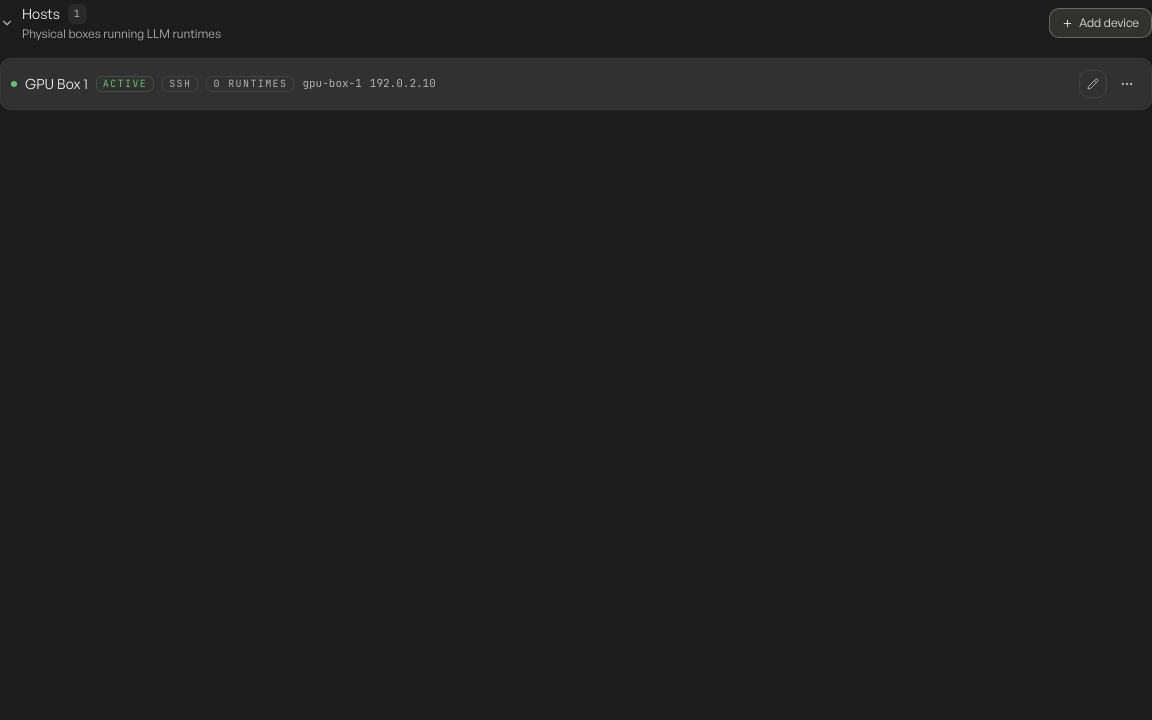
Test case: HostsSection › routes: already reachable → box wizard
Click the button "Add device" at (1100, 23), box [1049,8,1151,38]
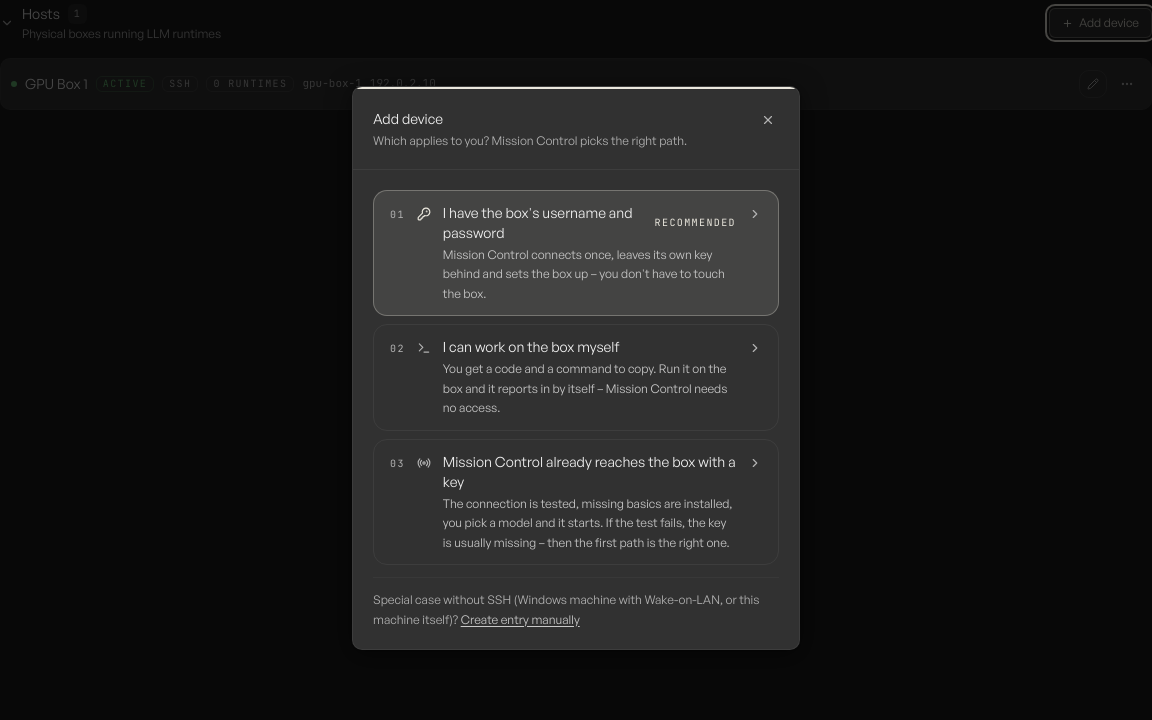
Click the button with test id "add-device-wizard" at (576, 502), box [373,439,779,565]
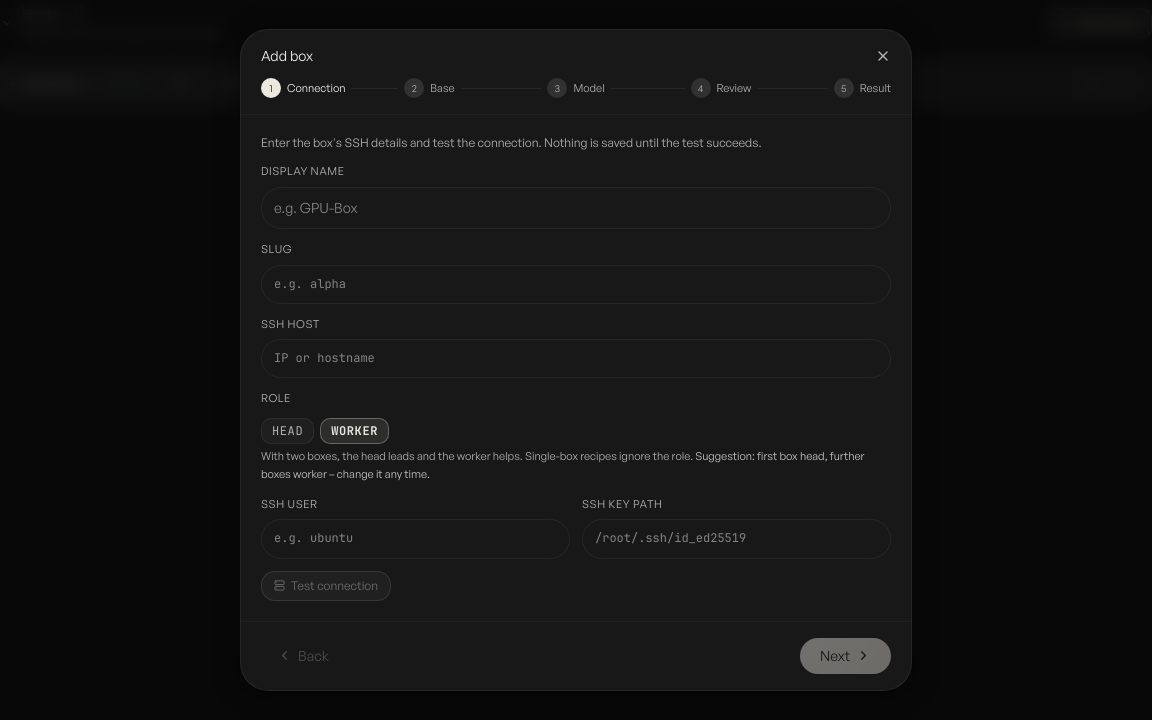
Check: the dialog "Add box" is shown, box [240,29,912,690]
